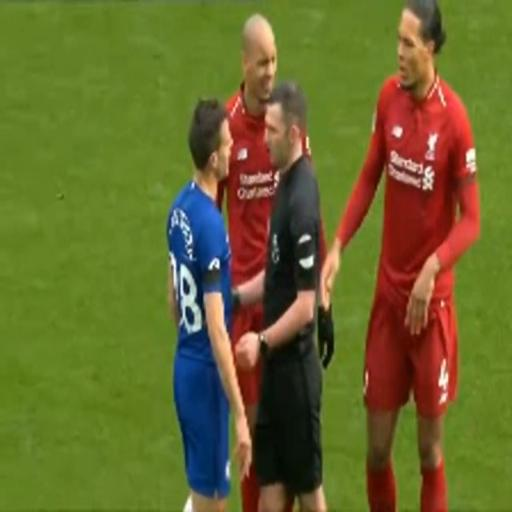nao-violencia: (228, 0, 487, 510), (160, 87, 326, 512)
